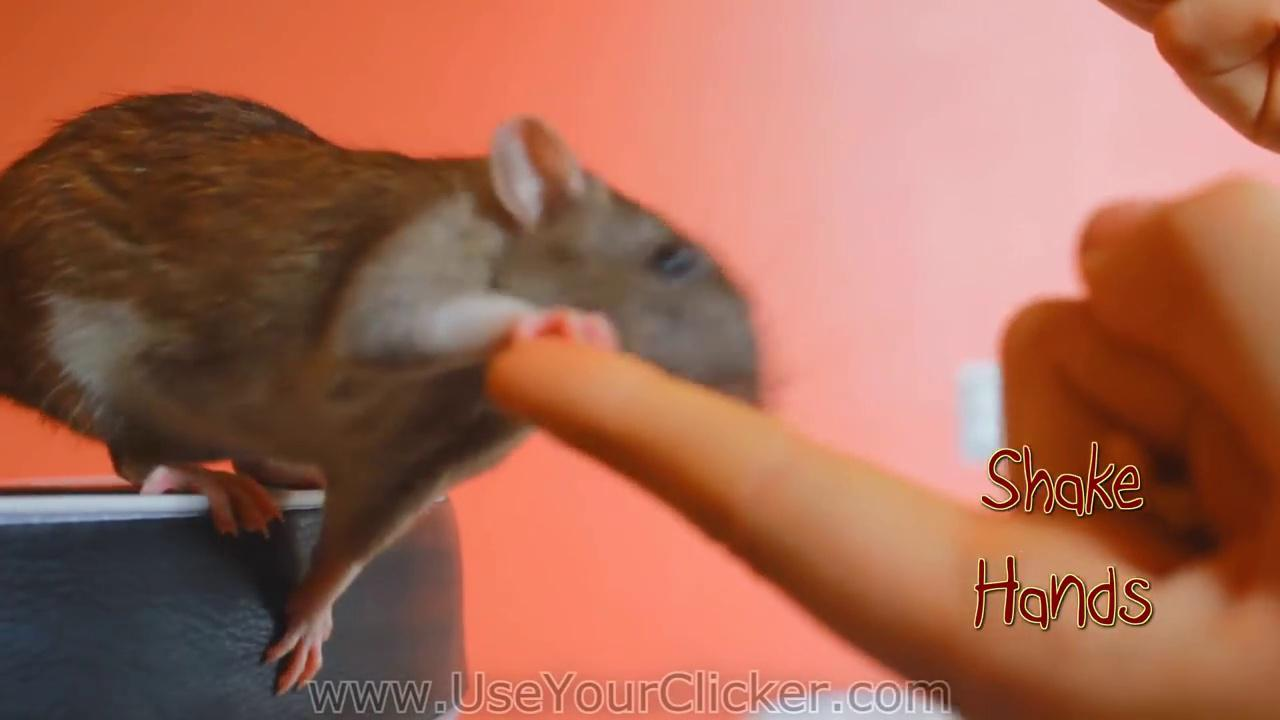rat: (0, 90, 768, 695)
